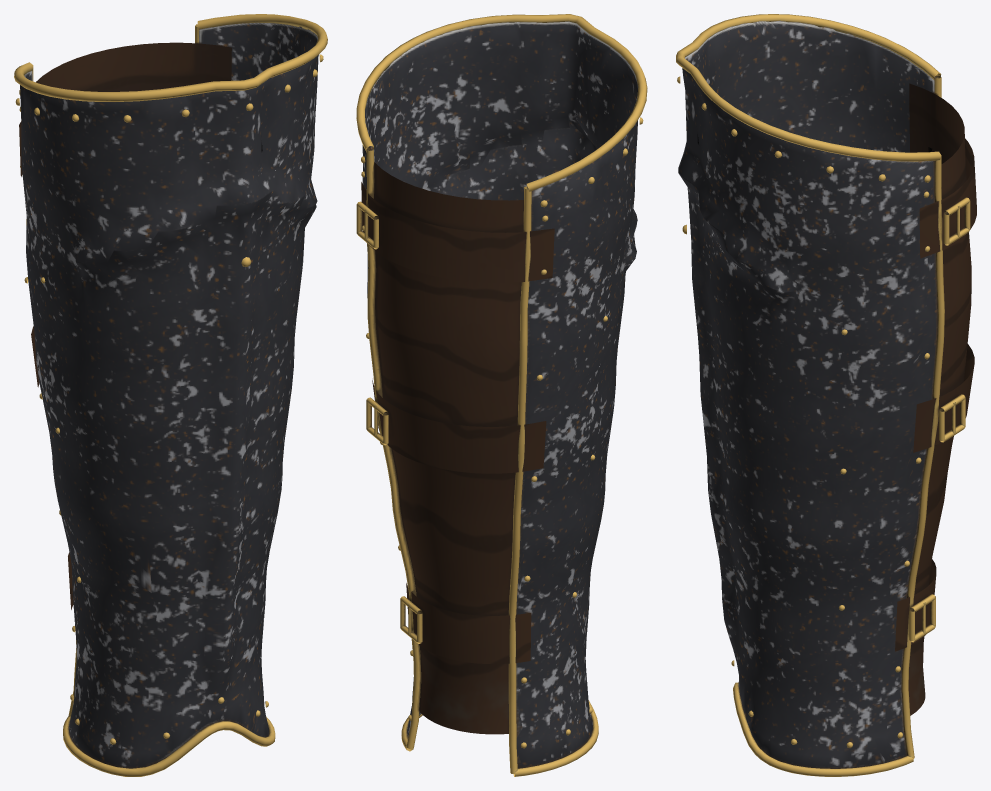
The model's file is SM_EagleGreaves_L_LOD1.fbx.
The picture shows the model from 3 angles, left to right: view 1: azimuth 30°, elevation 25°; view 2: azimuth 150°, elevation 25°; view 3: azimuth 270°, elevation 25°; orthographic projection. The views are drawn at different scales.
Parts seen in each view (by area): view 1: SM_EagleGreaves_L_LOD1; view 2: SM_EagleGreaves_L_LOD1; view 3: SM_EagleGreaves_L_LOD1.
Boxes of the visible parts, box(x1,y1,x2,y2) form: SM_EagleGreaves_L_LOD1: box(14, 14, 327, 776); SM_EagleGreaves_L_LOD1: box(356, 14, 647, 776); SM_EagleGreaves_L_LOD1: box(676, 14, 976, 776).
Bounding box in the file's own units: 0.1491 × 0.3745 × 0.1497.
